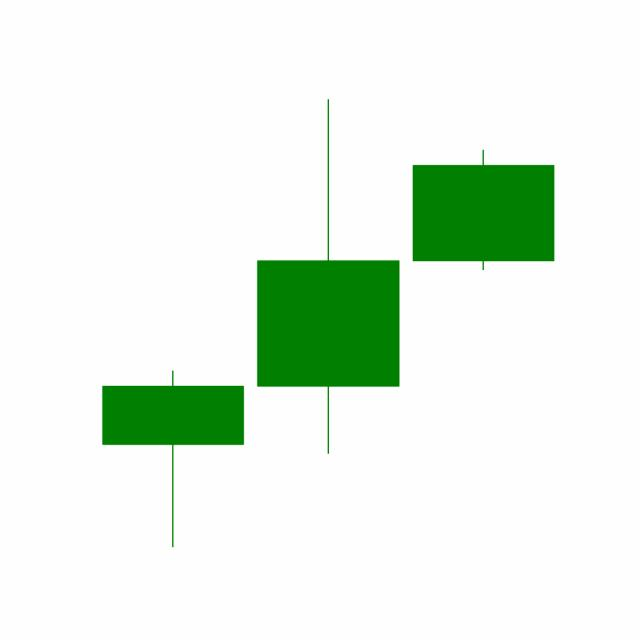Marubozu: (405, 148, 561, 272)
